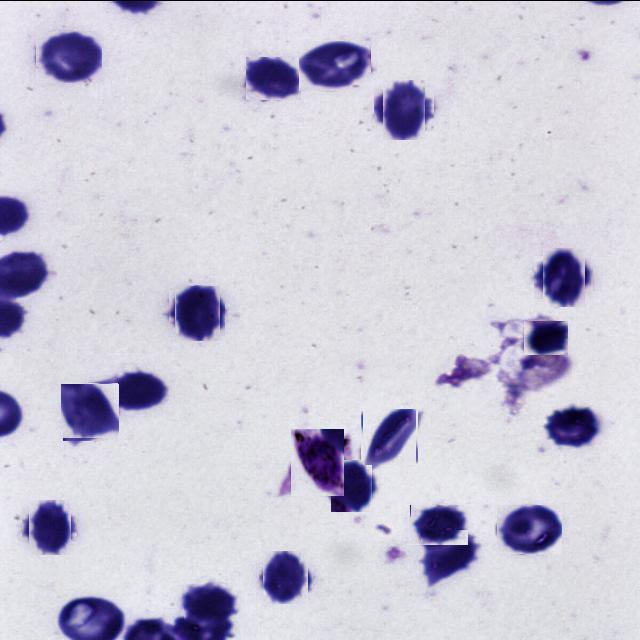red blood cell: (299, 40, 371, 90), (36, 30, 102, 82), (496, 504, 562, 554), (62, 382, 119, 439), (362, 409, 417, 464), (421, 529, 479, 581), (378, 82, 429, 134), (538, 251, 589, 302), (172, 286, 223, 337), (110, 369, 169, 411), (25, 502, 74, 551), (262, 552, 310, 602), (246, 56, 301, 99), (546, 404, 602, 446), (184, 578, 237, 622), (411, 504, 468, 544), (328, 462, 374, 508), (524, 320, 568, 354)
schizont: (288, 431, 348, 491)
